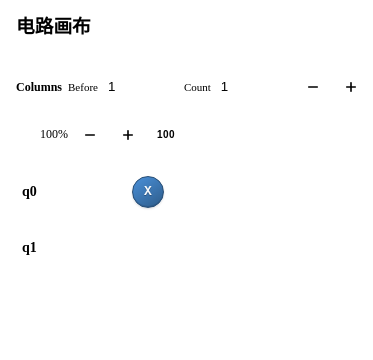
Test case: CircuitCanvas › blocks deleting columns when selected range contains gates
The width and height of the screenshot is (373, 360).
Replace the text in the number field with test id "canvas-column-before-input" with "3" at (140, 87), box [102, 72, 178, 102]
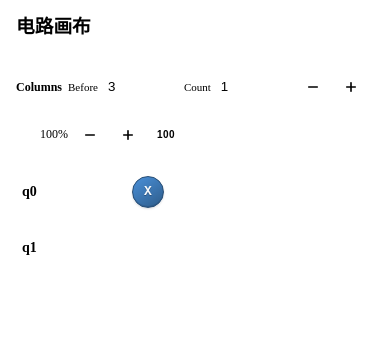
Replace the text in the number field with test id "canvas-column-count-input" with "2" at (253, 87), box [215, 72, 291, 102]
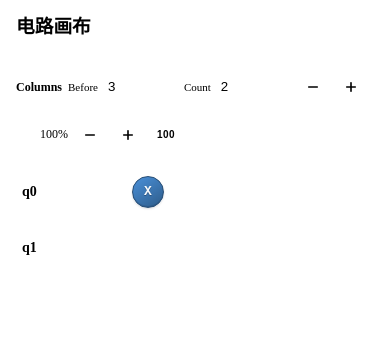
Click the button with test id "canvas-delete-empty-columns" at (313, 87), box [297, 71, 329, 103]
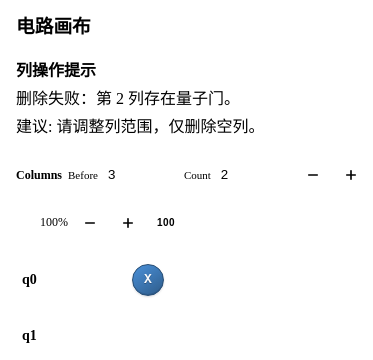
Expected: the element with test id "canvas-message" is shown, [16, 62, 264, 135]
